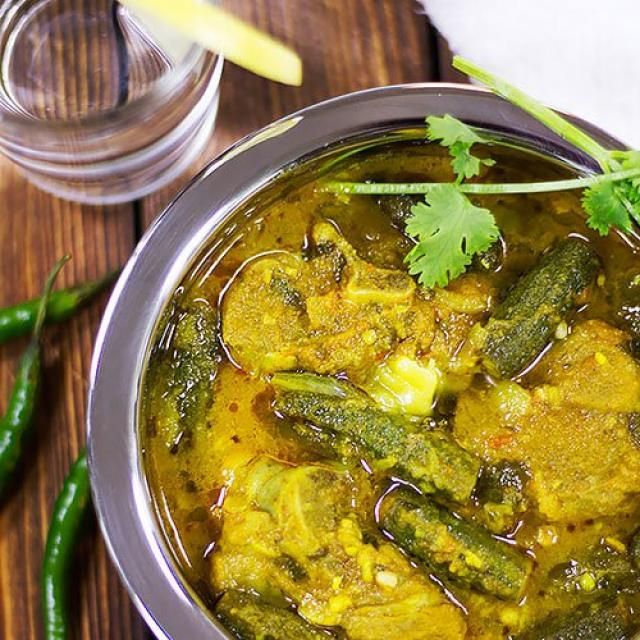Bhindi Masala: (148, 141, 640, 640)
